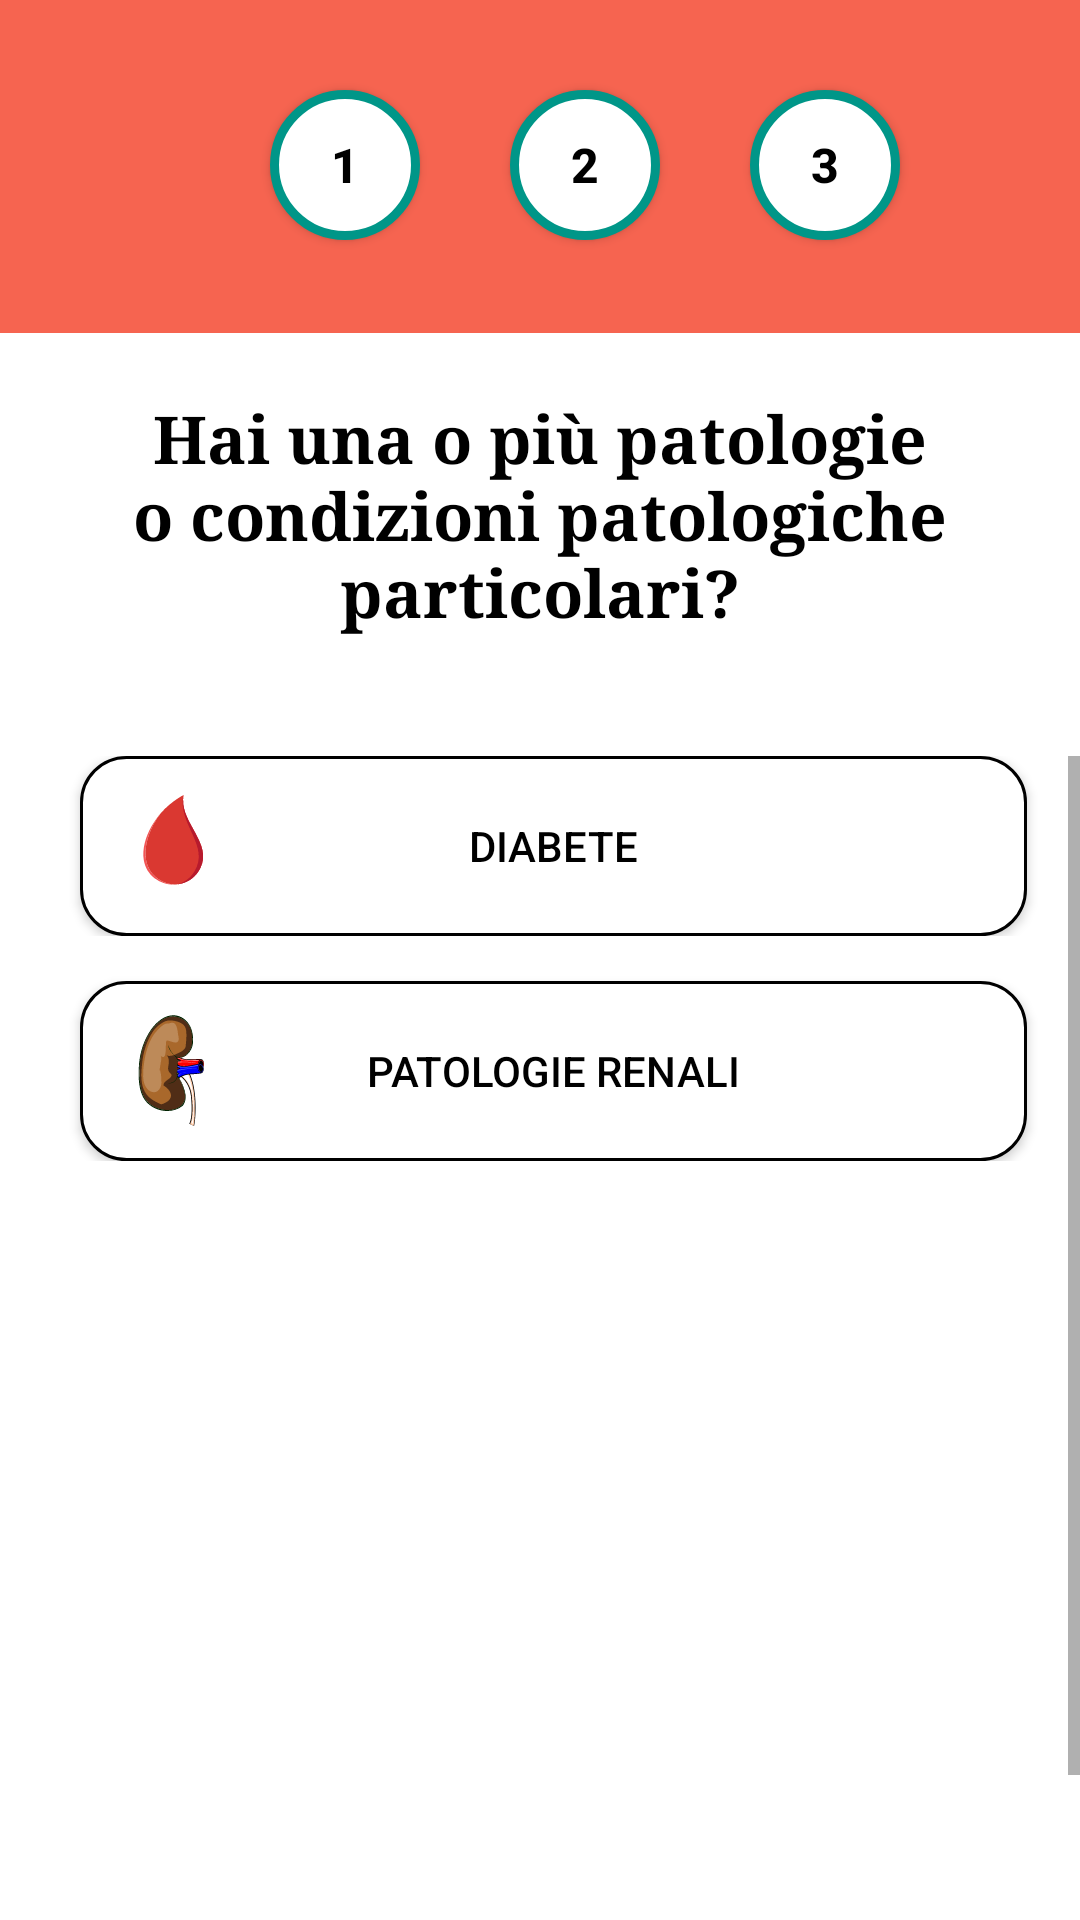

Named icons in this screenshot (1080px×1920px) and their centers, (x,y):
blood: (173,840)
kidney: (171,1070)
